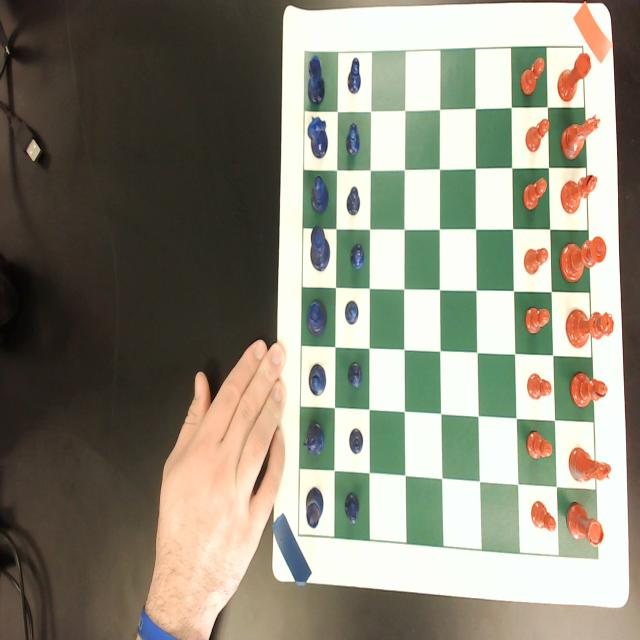B: (310, 173, 330, 214), (308, 363, 327, 397)
K: (310, 224, 331, 272)
N: (306, 113, 328, 160), (303, 420, 325, 458)
P: (347, 56, 361, 95), (344, 491, 360, 525), (346, 122, 360, 158), (348, 426, 364, 455), (350, 242, 365, 271), (346, 186, 360, 216), (344, 300, 359, 327), (348, 361, 362, 389)
Q: (306, 298, 328, 338)
R: (306, 54, 326, 105), (305, 486, 324, 529)
b: (560, 174, 598, 215), (570, 372, 608, 409)
cb: (299, 47, 599, 559)
k: (559, 236, 607, 284)
n: (560, 114, 600, 160), (568, 446, 612, 484)
p: (520, 57, 545, 97), (524, 117, 550, 153), (531, 499, 556, 535), (526, 430, 553, 461), (523, 178, 547, 211), (525, 306, 550, 334), (527, 372, 552, 400), (524, 247, 548, 274)
q: (566, 309, 614, 348)
r: (565, 502, 604, 548), (557, 51, 591, 103)
